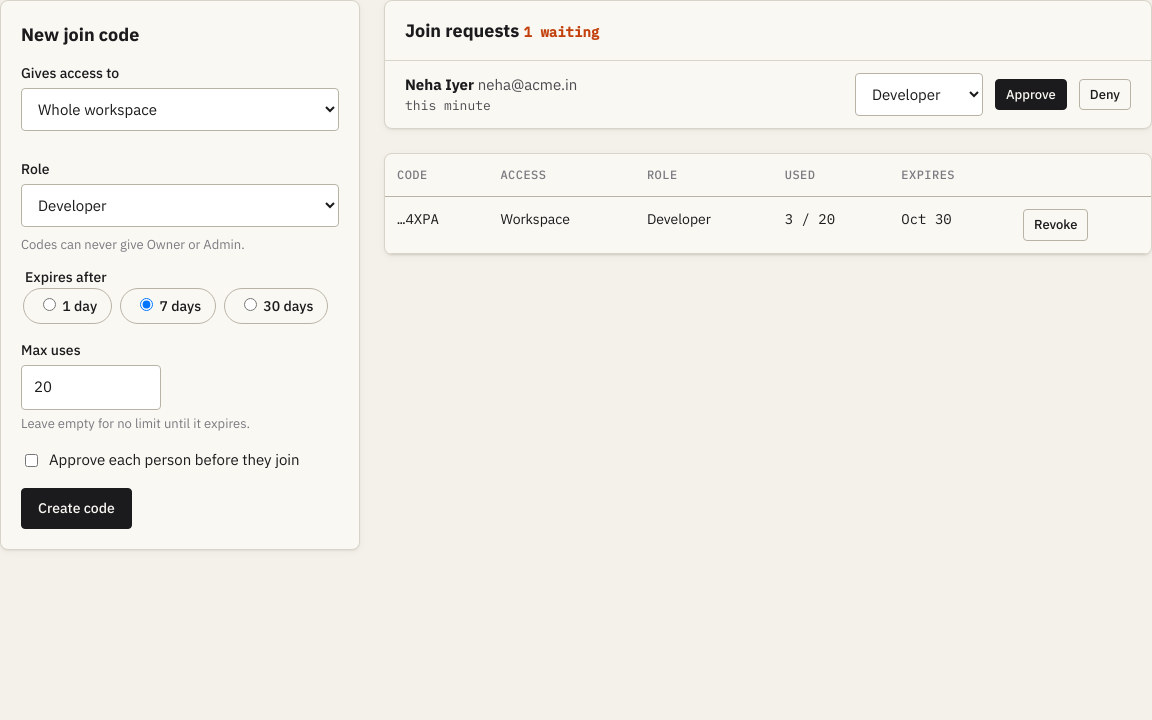
Test: JoinCodesTab › creates a code and shows it once, with the chosen expiry and approval
Expected: the text "…4XPA" is shown, [385,196,488,253]
What coordinates should you click on to do the following:
click the radio button labelled "30 days"
I would click on:
 (250, 305)
Its box is [244,298,257,311].
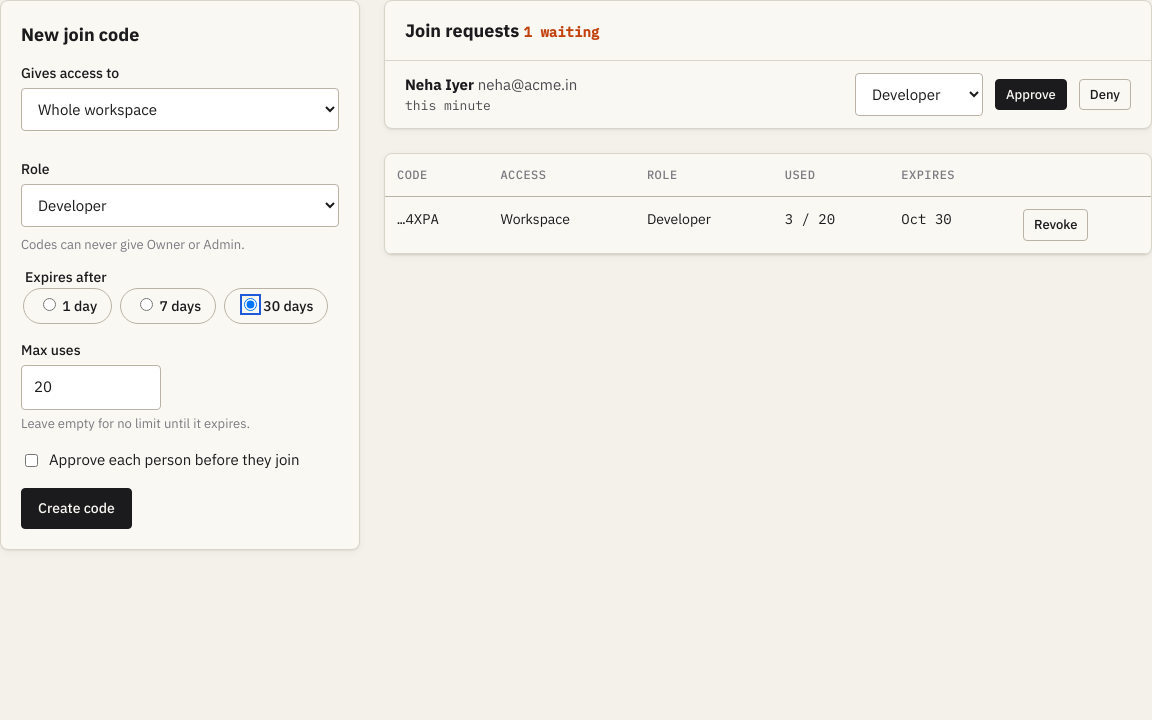
What coordinates should you click on to do the following:
click the checkbox labelled "Approve each person before they join"
I would click on:
 (32, 461)
Its box is [25,452,38,469].
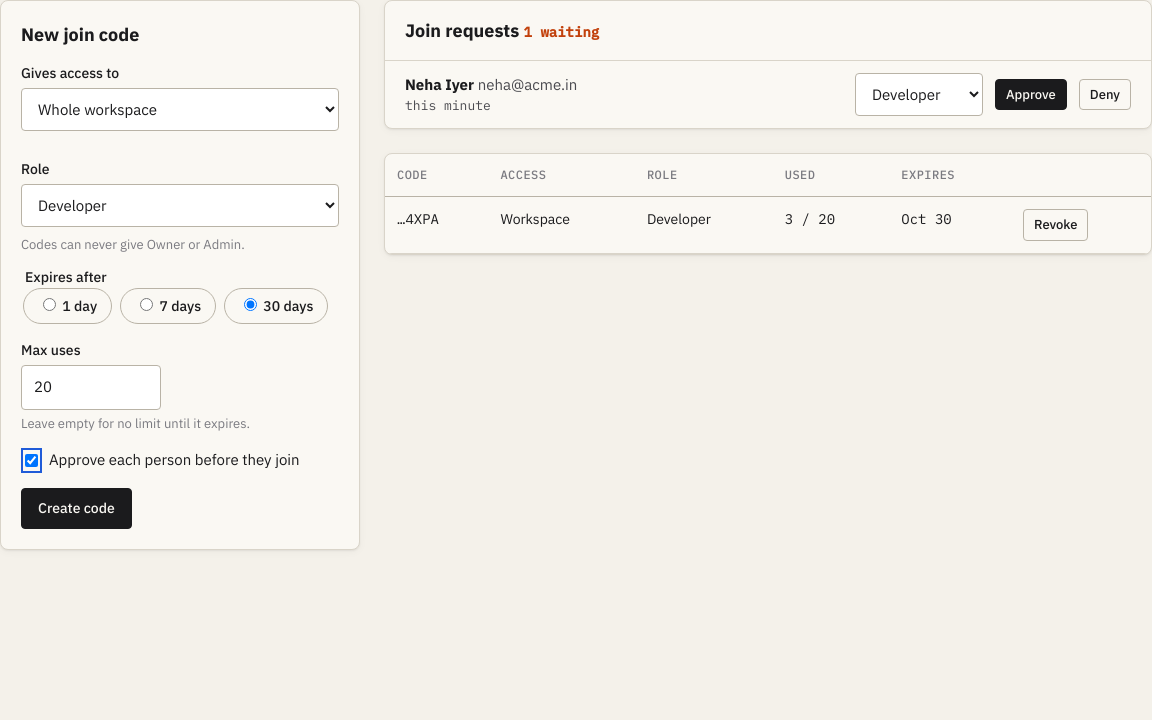
What coordinates should you click on to do the following:
click the button "Create code"
I would click on:
 (76, 508)
Its box is [21,488,132,529].
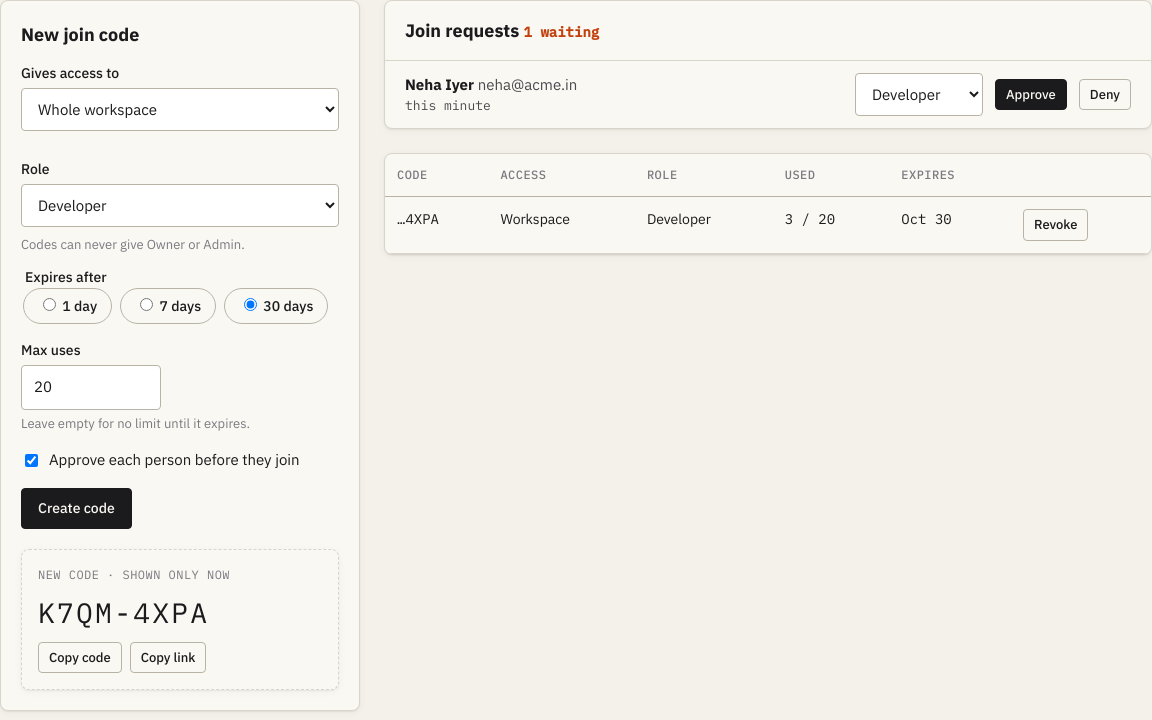
Now the text "K7QM-4XPA" is shown, box [38,594,209,631]
Now the text "New code · shown only now" is shown, box [38,567,230,582]
